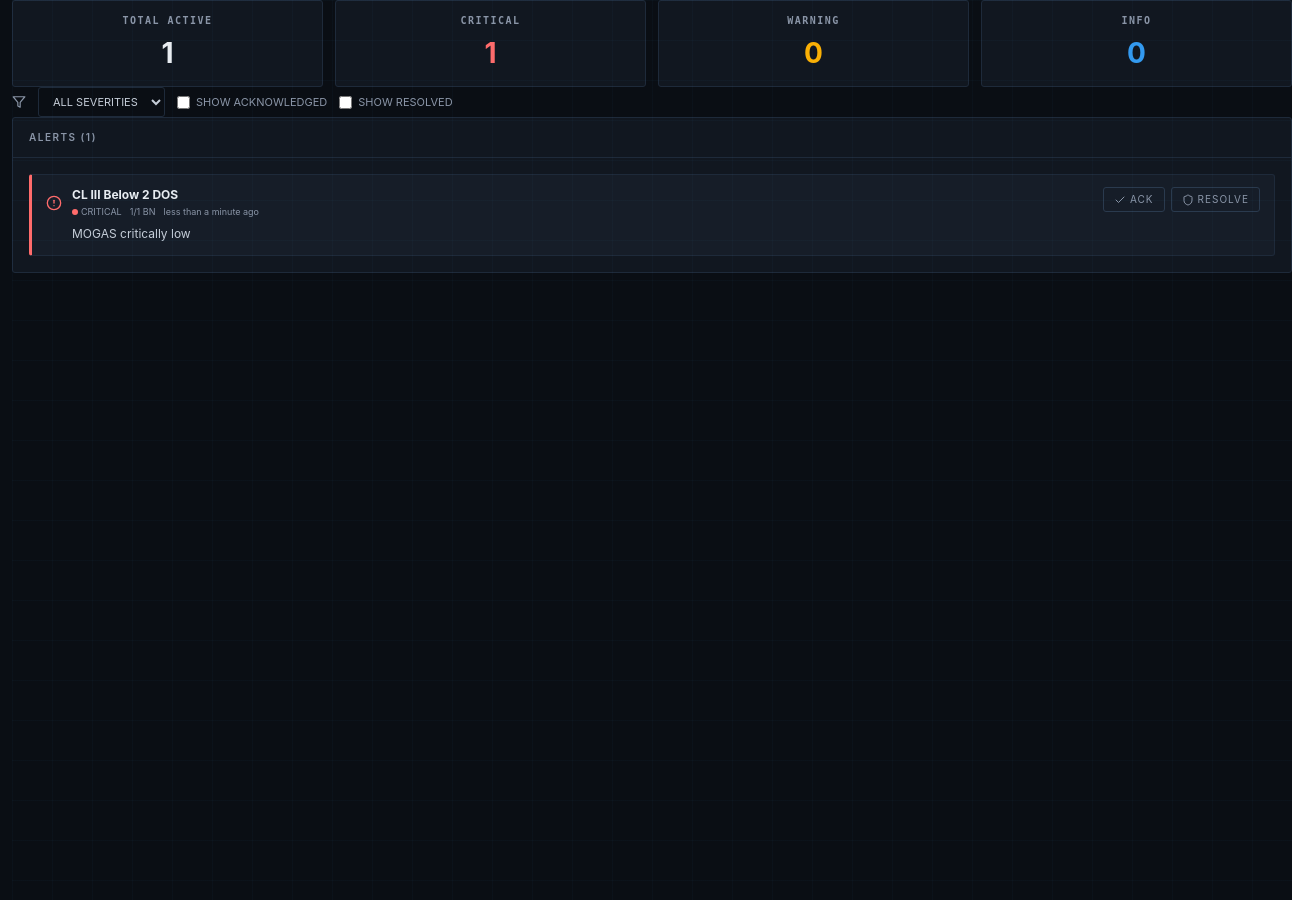
Test: AlertsTab › shows acknowledged alerts when checkbox is checked
This screenshot has width=1292, height=900.
Expected: the text "CL III Below 2 DOS" is shown, [72, 187, 178, 202]
Click the checkbox labelled "SHOW ACKNOWLEDGED" at [184, 102], box [177, 96, 190, 108]
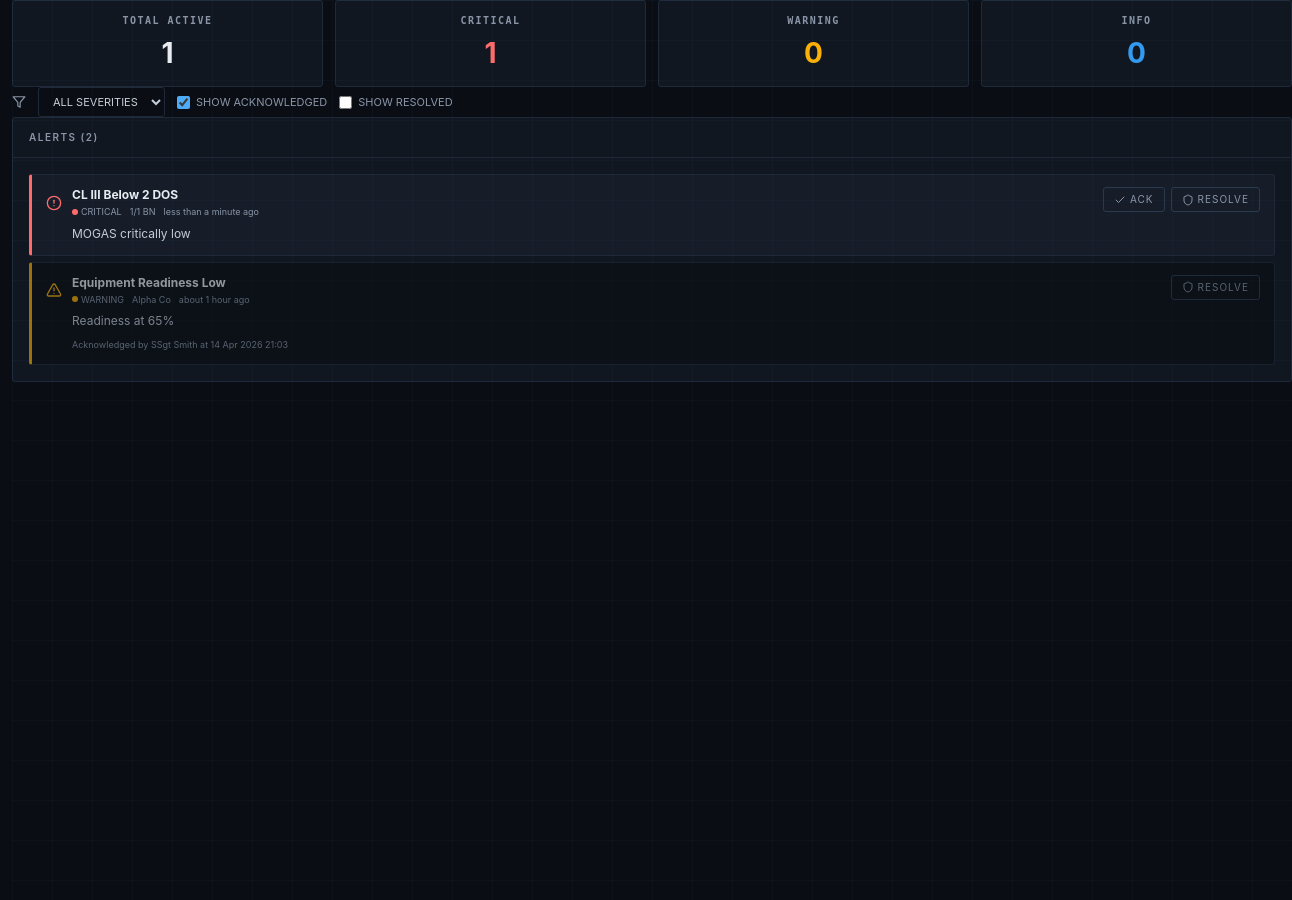
Expected: the text "Equipment Readiness Low" is shown, [72, 274, 250, 290]
